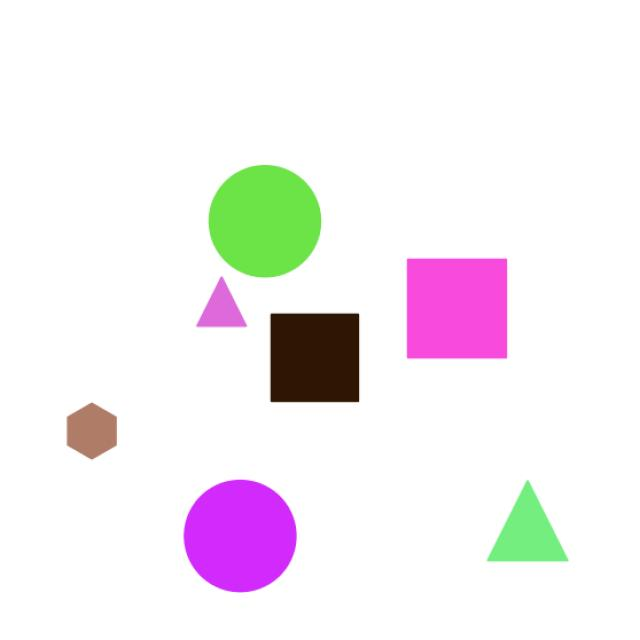Circle: (182, 152, 330, 283), (170, 468, 306, 601)
Hexagon: (49, 394, 136, 466)
Triangle: (474, 470, 580, 576), (189, 263, 254, 342)
square: (382, 244, 518, 370), (260, 304, 387, 424)
